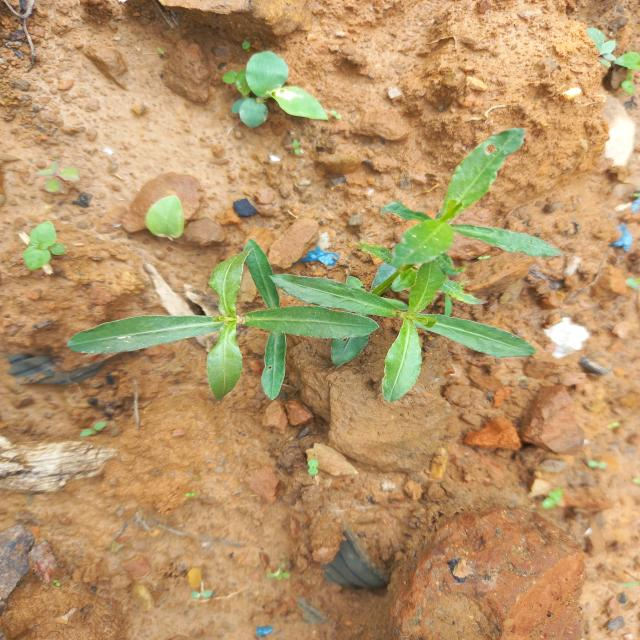weed: (78, 258, 373, 404), (266, 257, 552, 404), (361, 119, 577, 278), (206, 42, 338, 152), (128, 169, 204, 246), (580, 20, 640, 98), (4, 218, 75, 280)
